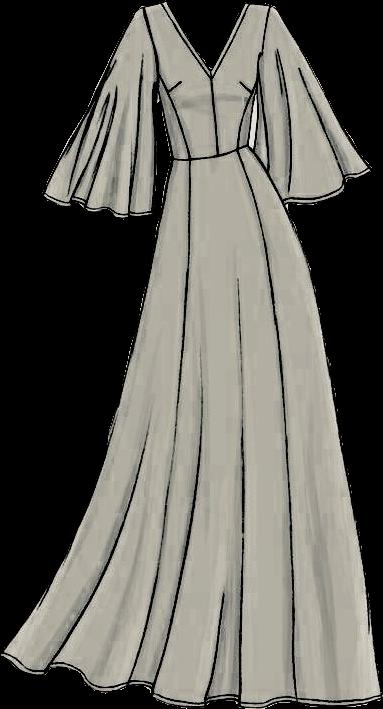Bodice: (139, 2, 271, 158)
Hemline: (0, 652, 382, 708)
Neckline: (161, 0, 255, 78)
Skirt: (2, 149, 380, 708)
Sleeve: (42, 11, 159, 217), (255, 3, 370, 204)
Sleeveline: (136, 5, 164, 102), (252, 1, 277, 102)
Waistline: (167, 143, 254, 166)
